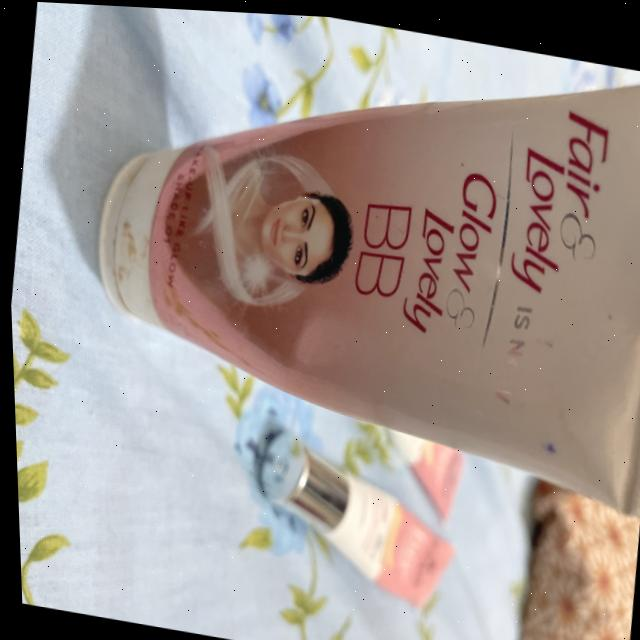bb cream: (47, 2, 640, 541), (221, 410, 478, 632)
